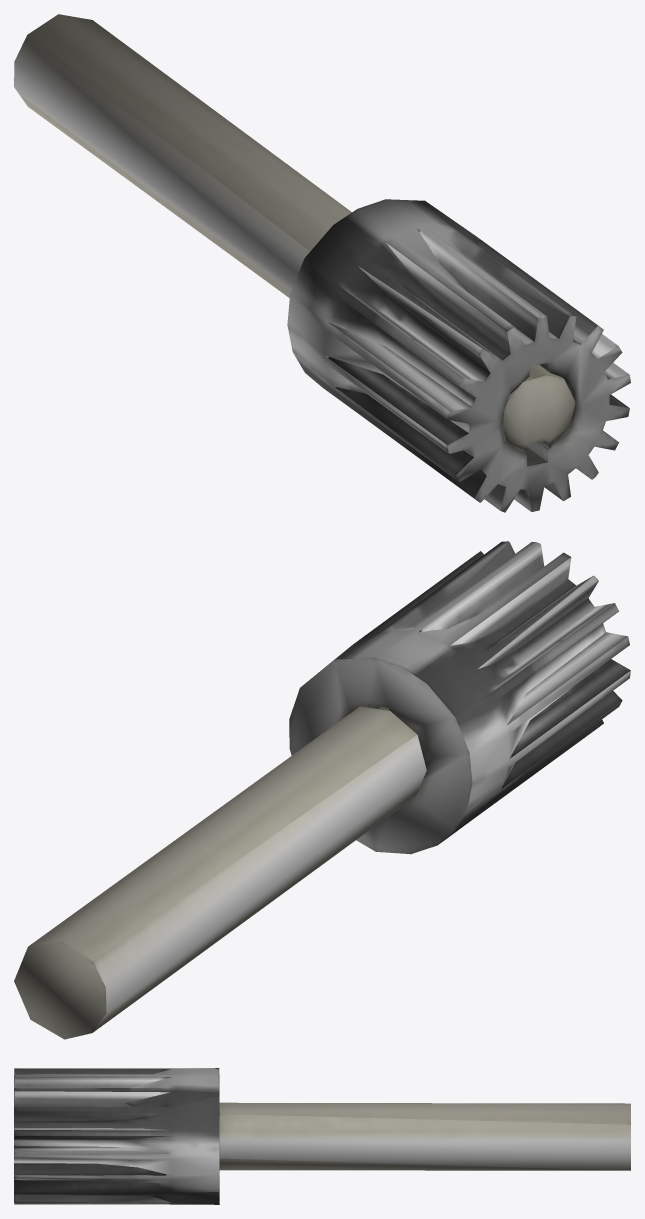
3 renders of one model, top to bottom at view 1: azimuth 30°, elevation 25°; view 2: azimuth 150°, elevation 25°; view 3: azimuth 270°, elevation 25°, orthographic. The views are drawn at different scales.
Visible parts, largest first — view 1: Eje.001_Mesh.018; view 2: Eje.001_Mesh.018; view 3: Eje.001_Mesh.018.
Part boxes in pixels (left/top/right/bottom): Eje.001_Mesh.018: left=14, top=14, right=630, bottom=512; Eje.001_Mesh.018: left=14, top=541, right=630, bottom=1039; Eje.001_Mesh.018: left=14, top=1068, right=630, bottom=1204.
Bounding box in the file's own units: 0.0261 × 0.0264 × 0.1176.
2 materials, 2 textured.
